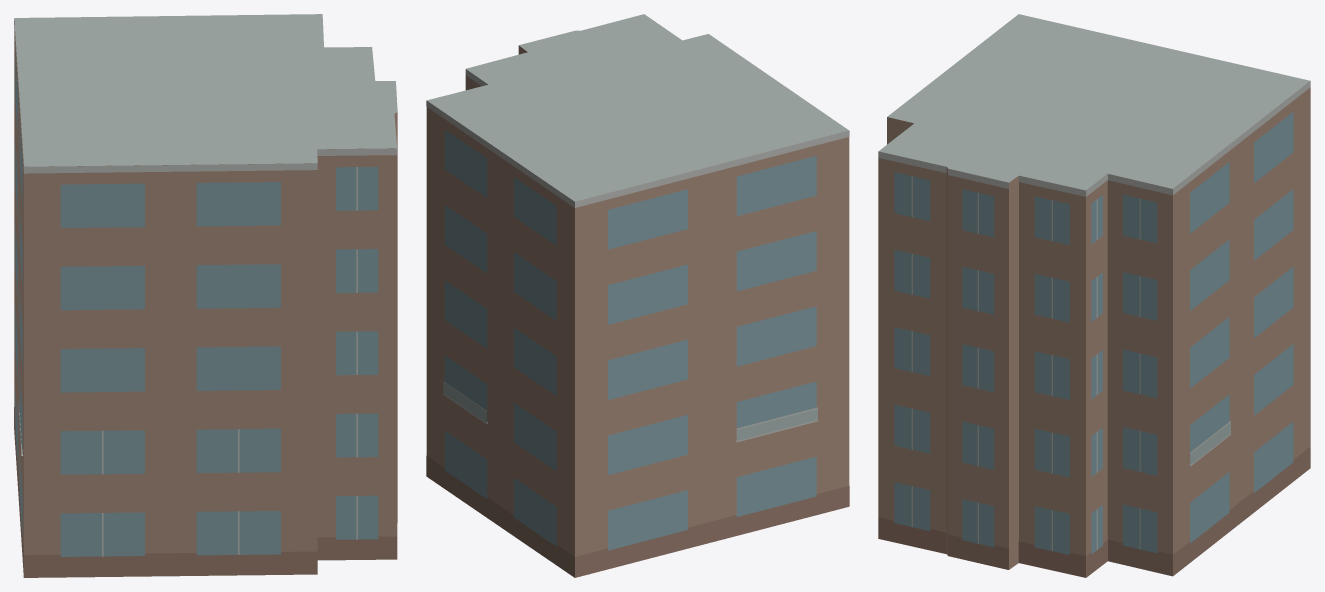
Rendered from survey-upis-33000181.glb.
3 views of the same model, side by side, from view 1: azimuth 30°, elevation 25°; view 2: azimuth 150°, elevation 25°; view 3: azimuth 270°, elevation 25° (orthographic). The views are drawn at different scales.
Parts seen in each view (by area): view 1: survey-upis-33000181.tmp; view 2: survey-upis-33000181.tmp; view 3: survey-upis-33000181.tmp.
Part boxes in pixels (x1,y1,x2,y2): survey-upis-33000181.tmp: (14, 14, 397, 577); survey-upis-33000181.tmp: (426, 14, 849, 577); survey-upis-33000181.tmp: (878, 14, 1310, 577).
Size of the model in its own units: 14.42 by 14.75 by 14.92.
